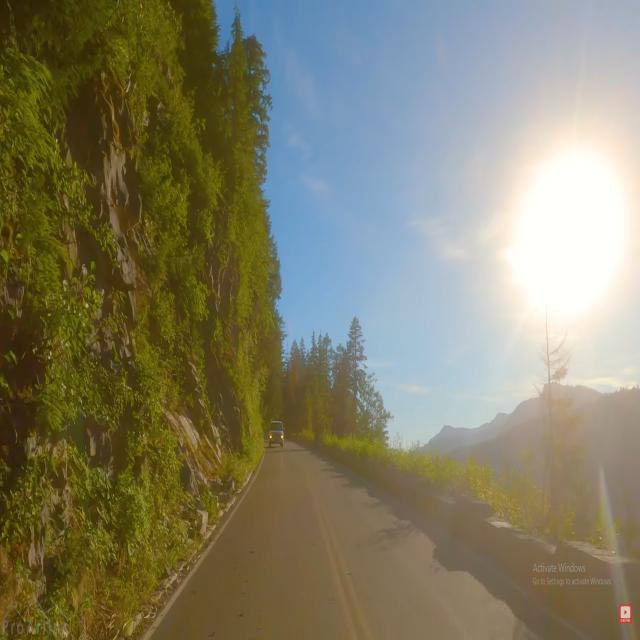sun: (486, 90, 640, 359)
